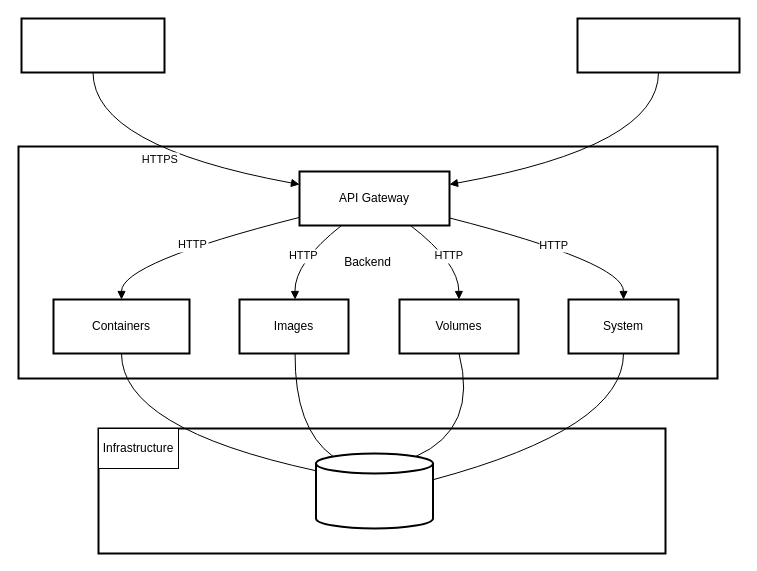
Image size: 757x571. Some labels were removed from this diagram. Each missing label, with the centre of its shape:
Docker Socket: point 374,490
Mobile Application: point 92,45
WebUI: point 658,45
